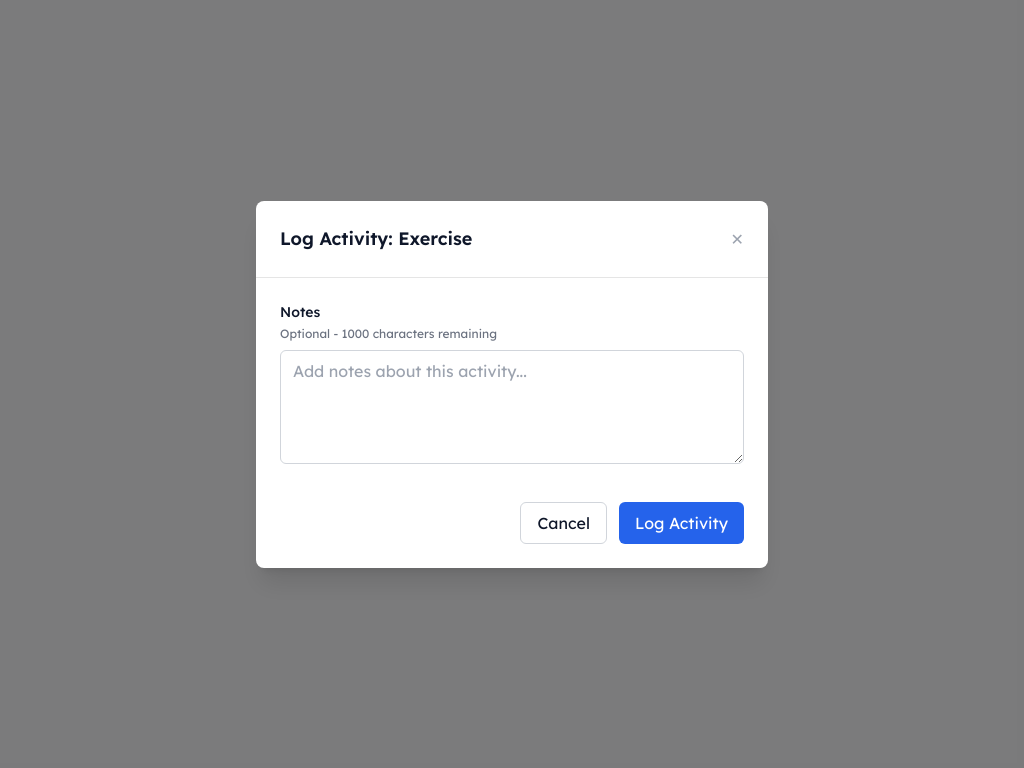
Scenario: LogCommitmentModal › updates character counter as user types
Type "Hello" into the text box with placeholder "Add notes about this activity..." at (512, 406), box [280,350,744,464]
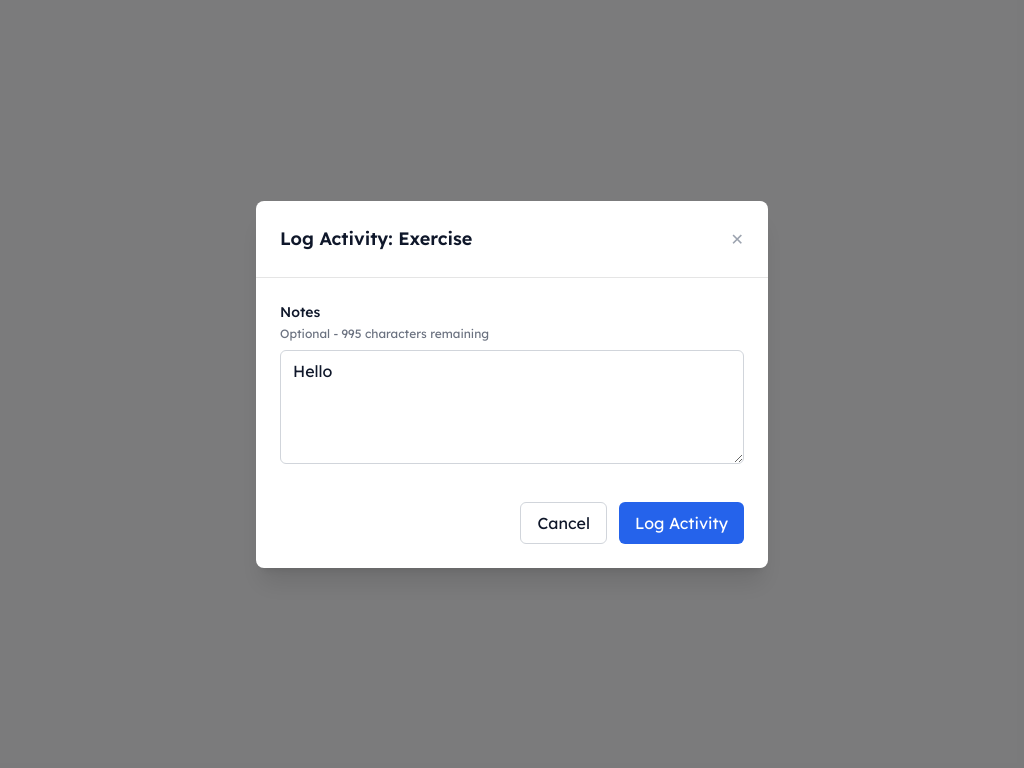
Now the text "995 characters remaining" is shown, box [280,326,489,340]
